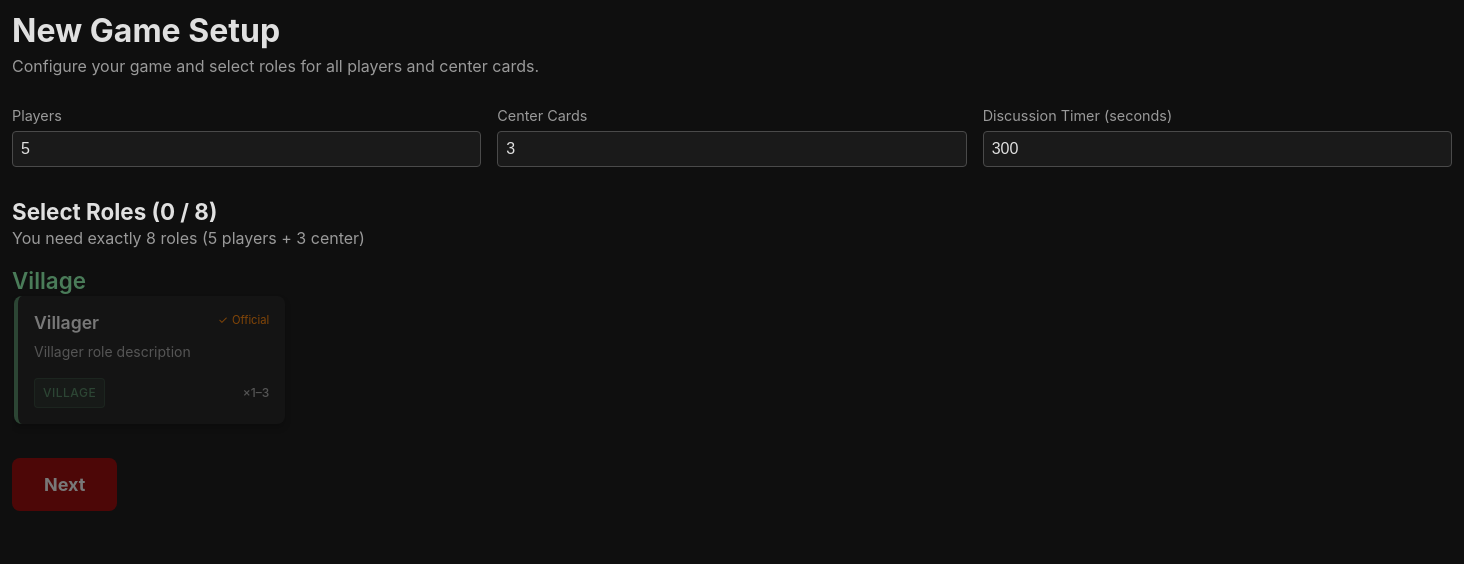
GameSetupPage › multi-copy role selection › + button increments count
Click the text "Villager" at {"x": 150, "y": 360}, box [12,294,287,426]
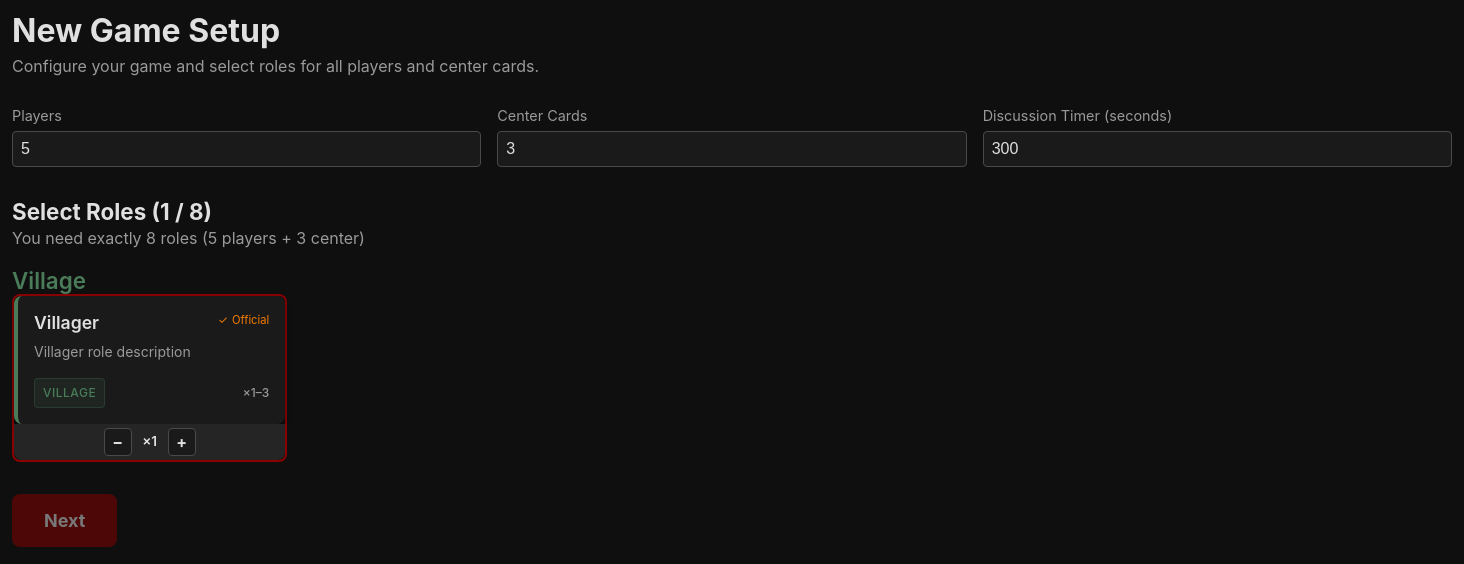
Click the button named "Increase Villager count" at {"x": 182, "y": 442}, box [168,428,196,456]
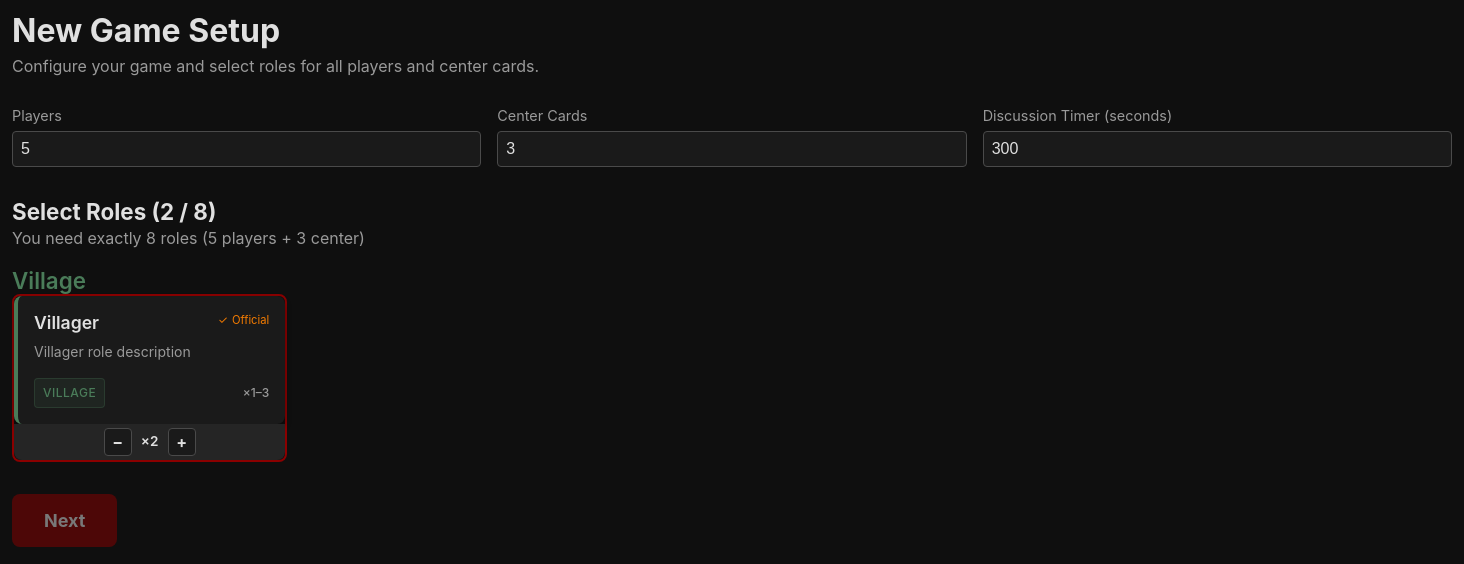
Expected: the heading "Select Roles (2 / 8)" is shown, [12,198,216,225]
